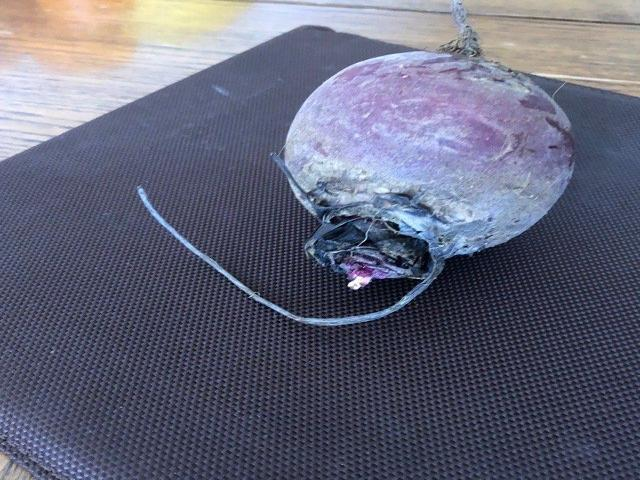beet: (136, 1, 576, 326)
